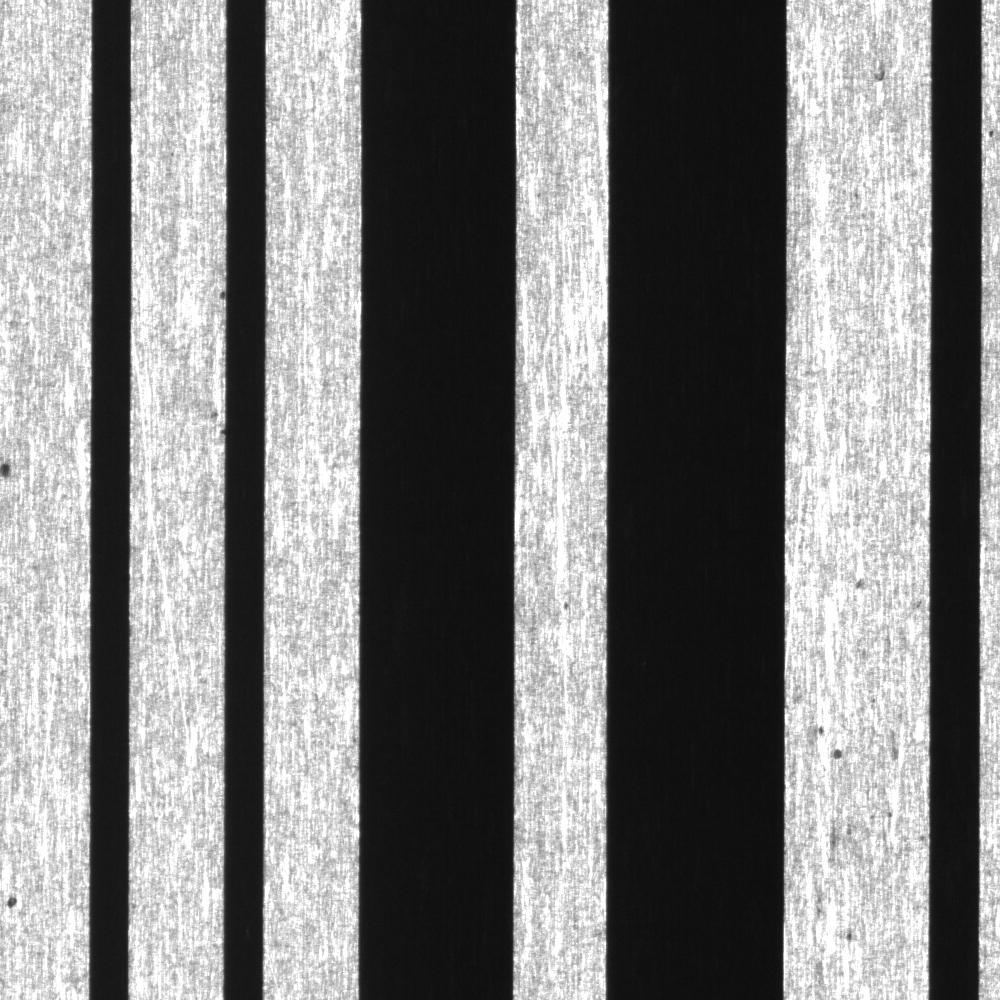Etching: (821, 803, 927, 866), (811, 718, 849, 767), (2, 880, 30, 924), (851, 563, 878, 603), (204, 402, 228, 445), (869, 60, 894, 89), (1, 452, 20, 487), (213, 285, 229, 307)
Pinhole: (841, 923, 862, 954)
